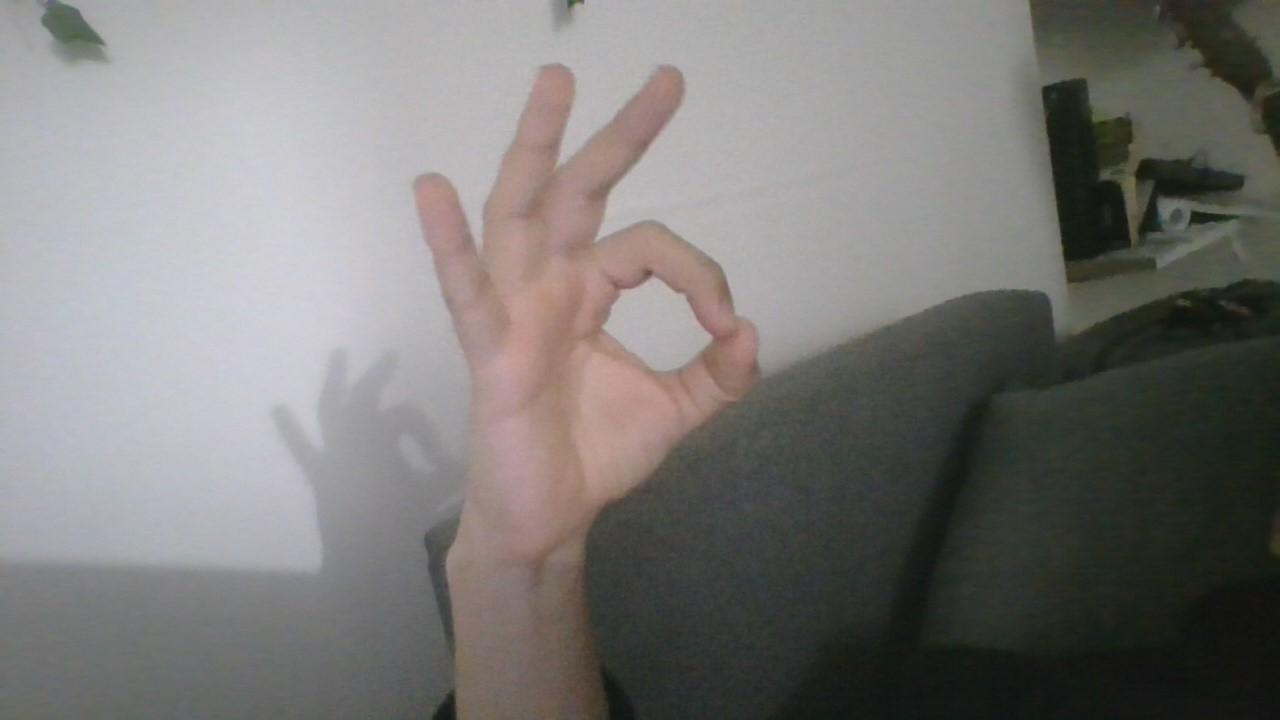zero: (400, 46, 790, 552)
